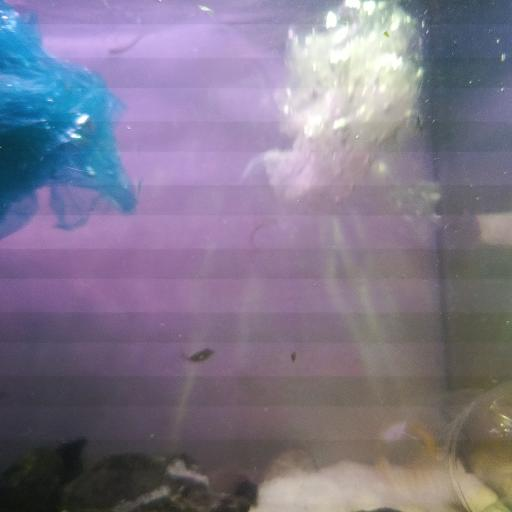plastic_bag: (244, 0, 448, 232), (0, 0, 152, 254)
